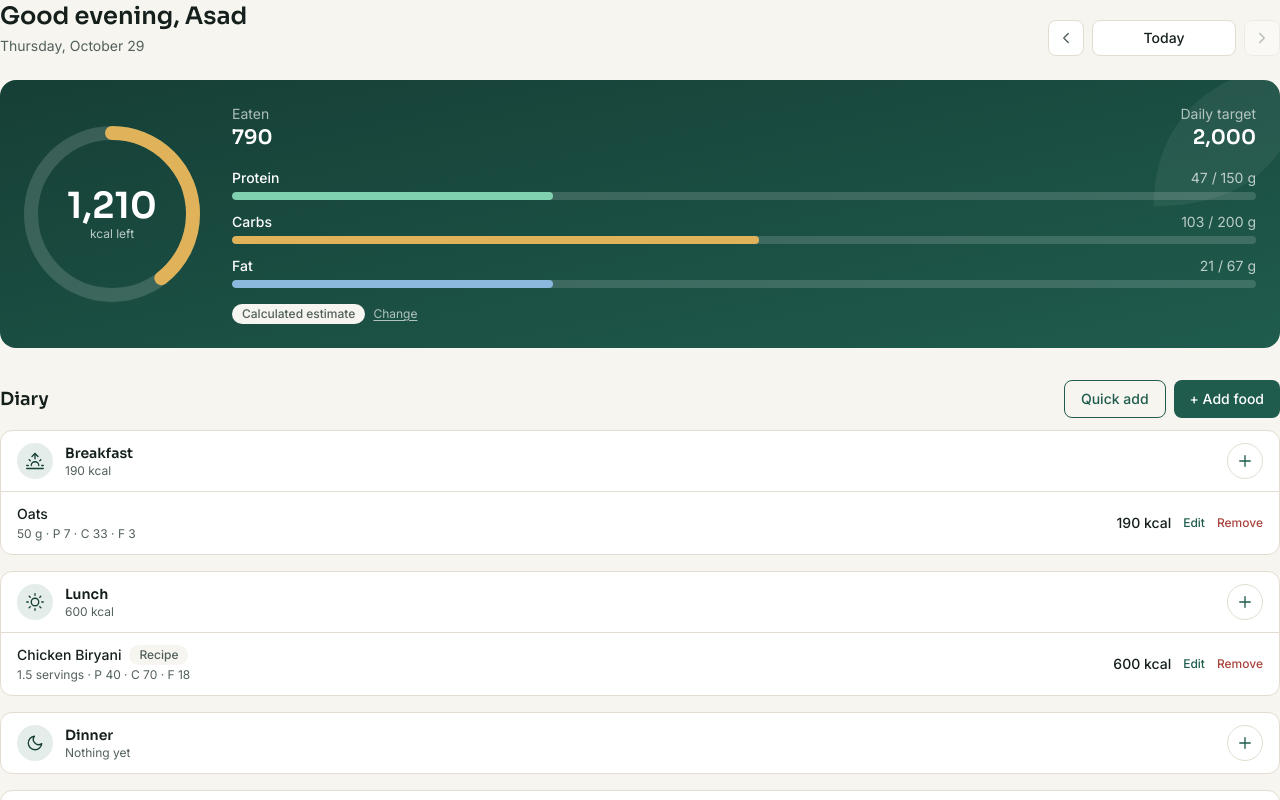
it: Today / diary page › can't go past today, but can step back a day and shows that day's diary
This screenshot has width=1280, height=800.
Expected: the text "Chicken Biryani" is shown, [17,646,121,663]
Expected: the button named "Next day" is disabled, [1244,20,1279,56]
Click the button named "Previous day": (1066, 38) [1048,20,1084,56]
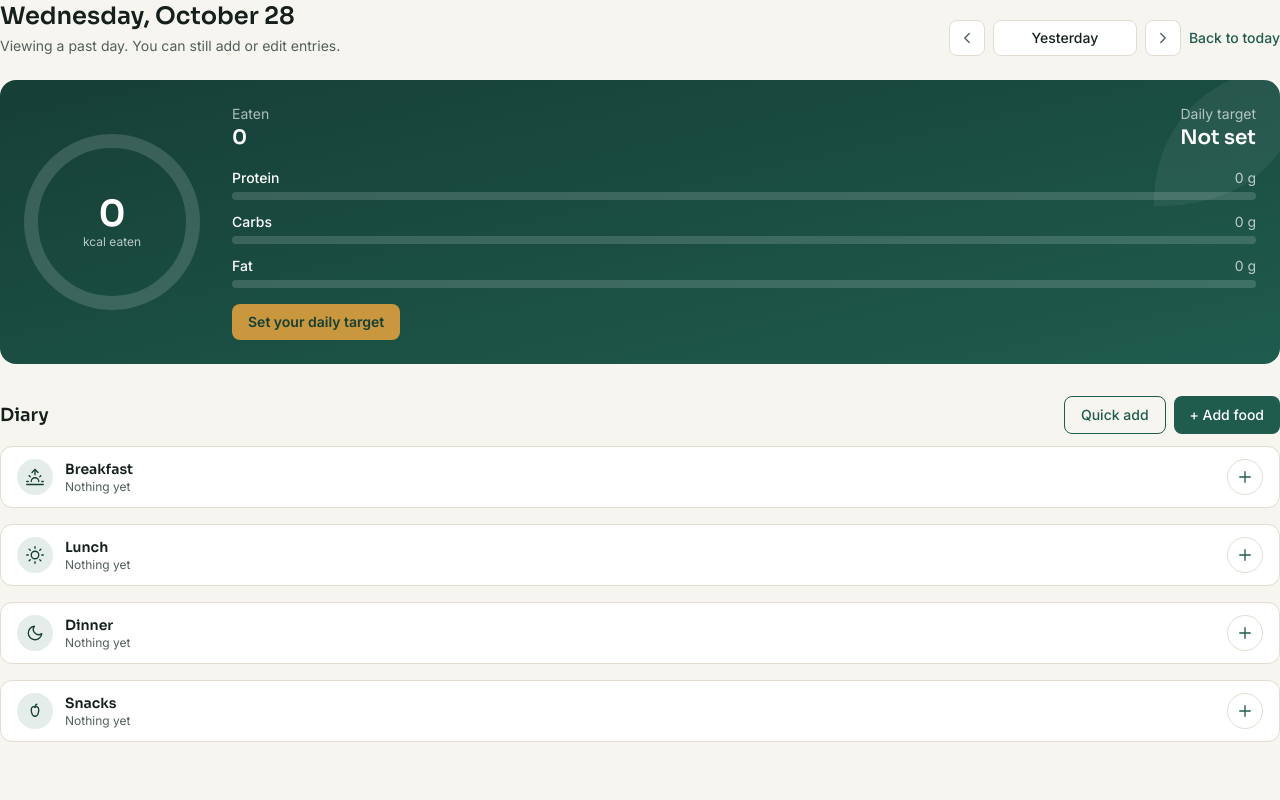
Now the text "Yesterday" is shown, box [1032,29,1098,46]
Now the text "Chicken Biryani" is gone
Now the button "Back to today" is shown, box [1189,28,1279,48]
